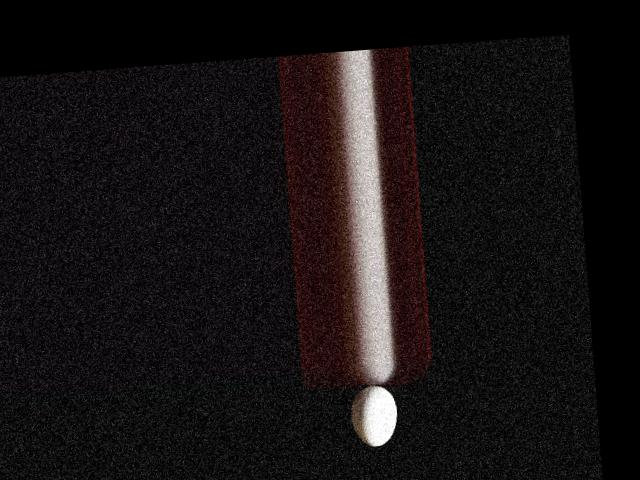egg: (350, 383, 399, 447)
